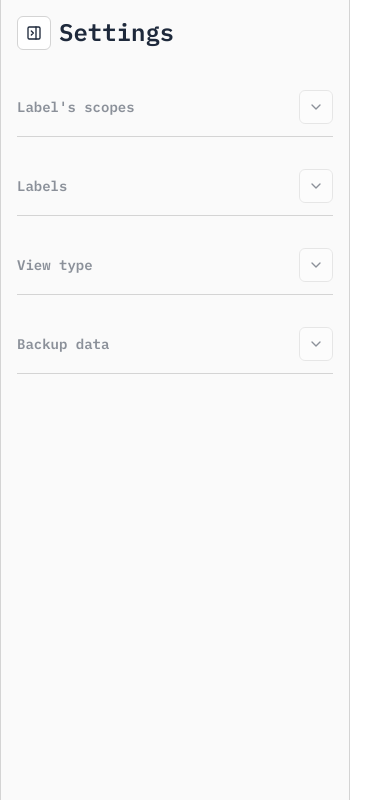
Test: BaseSettings › should render add scope form
The image size is (367, 800).
Step 1. Click the button titled "Collapse/Expand" in the row of "Label's scopes" → (316, 107), box x1=299 y1=90 x2=333 y2=124
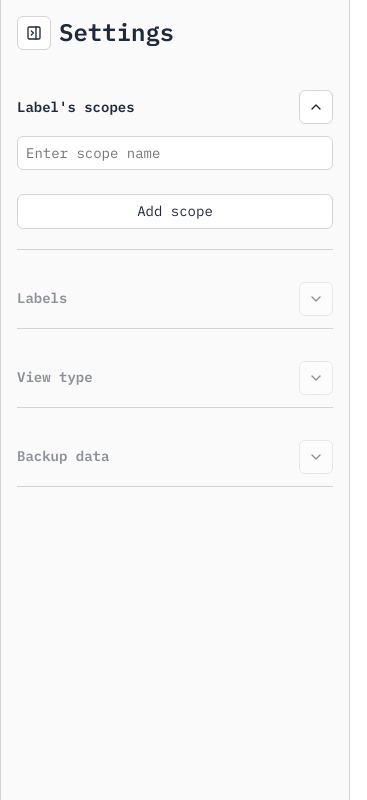
Expected: the form with id "add-scope-form" is shown, x1=17 y1=136 x2=333 y2=229
